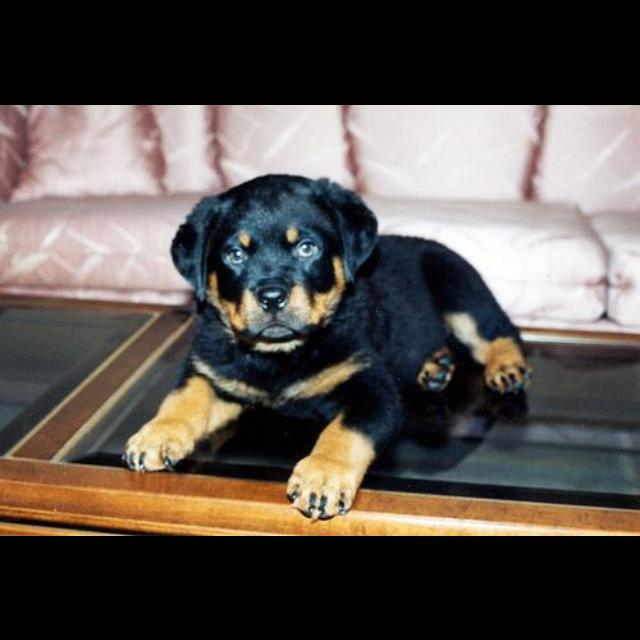rottweiler: (124, 172, 534, 521)
